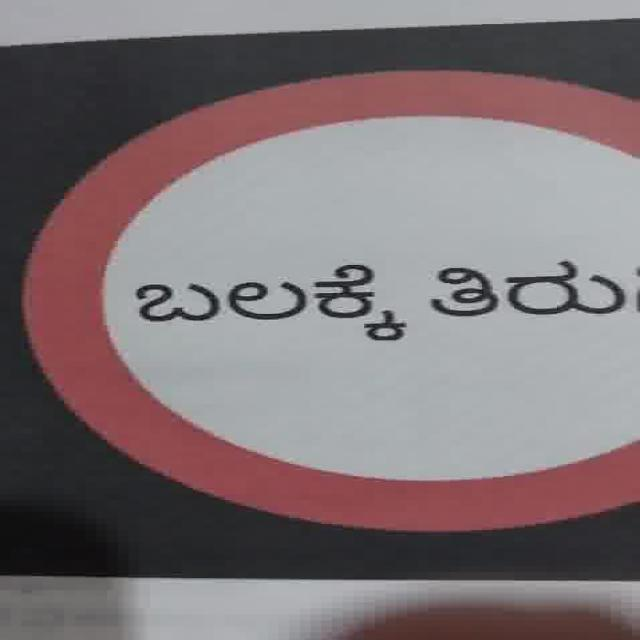kannadaright: (117, 262, 433, 341)
